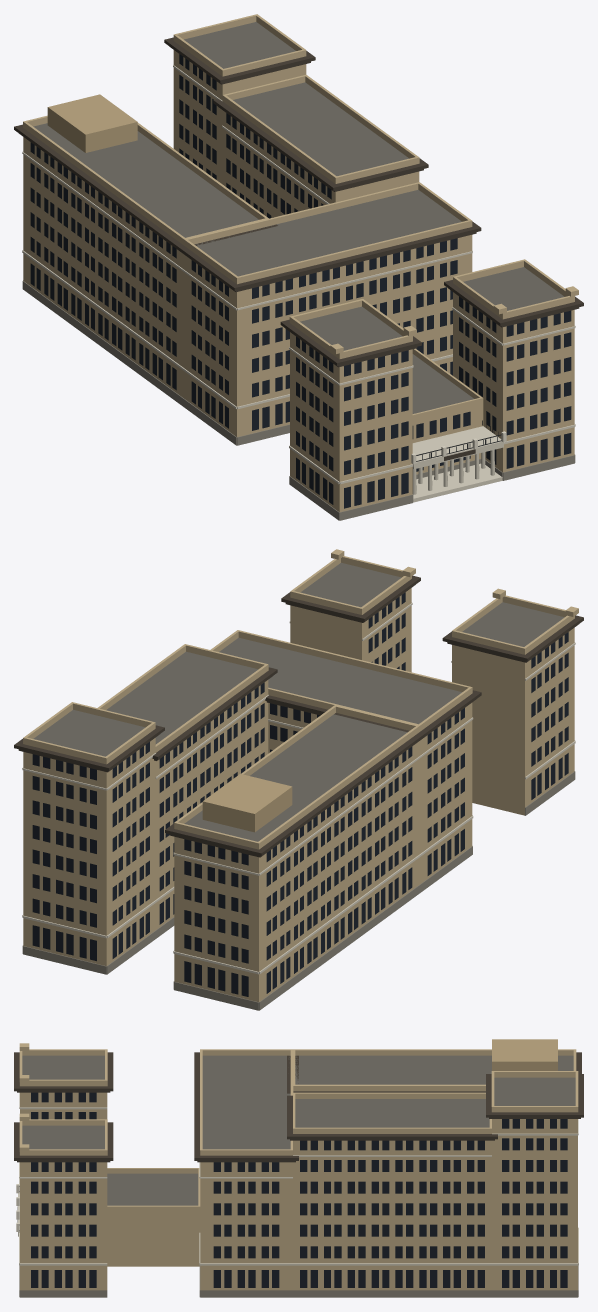
The model's file is marion-hotel-1961.glb.
3 renders of one model, top to bottom at view 1: azimuth 30°, elevation 25°; view 2: azimuth 150°, elevation 25°; view 3: azimuth 270°, elevation 25°, orthographic. The views are drawn at different scales.
Parts seen in each view (by area): view 1: marion_brick, marion_glass, marion_roof, marion_cornice, marion_stone, marion_base, marion_brick2; view 2: marion_brick, marion_glass, marion_roof, marion_cornice, marion_base, marion_stone, marion_brick2; view 3: marion_brick, marion_roof, marion_glass, marion_cornice, marion_base, marion_stone, marion_brick2.
Part boxes in pixels (x1,y1,x2,y2): marion_brick: (23, 14, 578, 512); marion_glass: (30, 54, 571, 508); marion_roof: (33, 22, 564, 413); marion_cornice: (14, 37, 583, 460); marion_stone: (22, 65, 575, 502); marion_base: (22, 280, 575, 520); marion_brick2: (47, 94, 137, 152); marion_brick: (23, 549, 578, 1002); marion_glass: (32, 592, 568, 996); marion_roof: (33, 562, 564, 841); marion_cornice: (14, 575, 583, 857); marion_base: (22, 771, 575, 1010); marion_stone: (22, 602, 575, 974); marion_brick2: (202, 774, 292, 832); marion_brick: (19, 1043, 578, 1290); marion_roof: (22, 1055, 575, 1205); marion_glass: (31, 1092, 567, 1287); marion_cornice: (14, 1052, 583, 1222); marion_base: (19, 1265, 578, 1297); marion_stone: (18, 1092, 578, 1265); marion_brick2: (492, 1039, 557, 1070).
Size of the model in its own units: 37.8 by 31.7 by 86.
